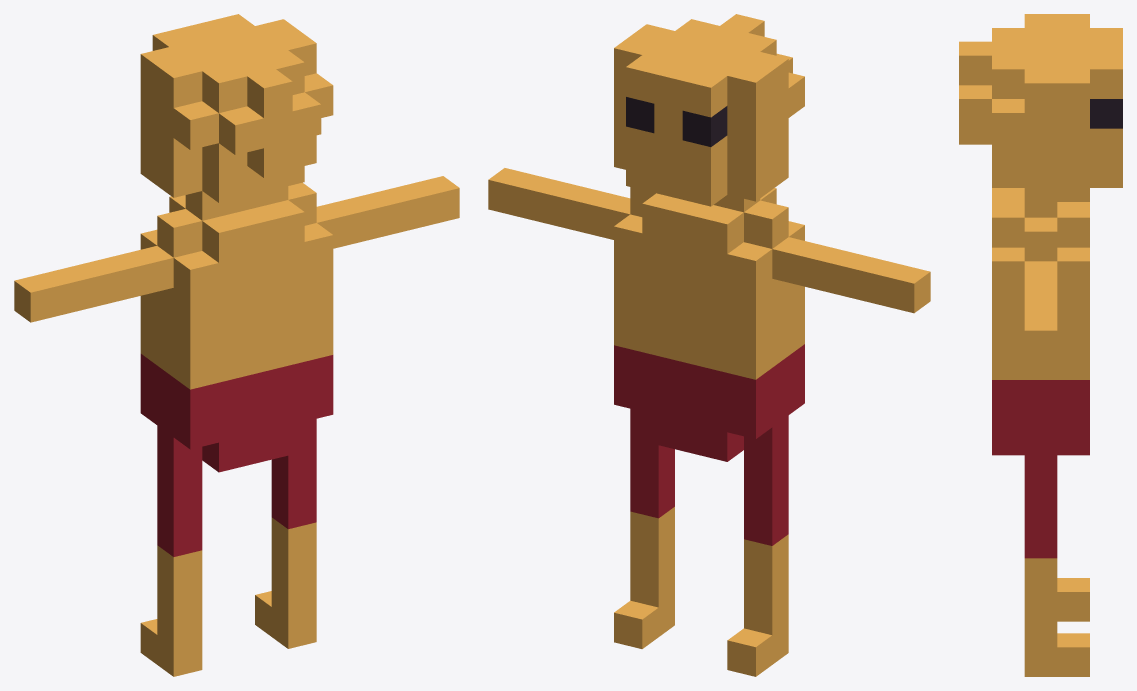
File: human-base.obj
3 renders of one model, left to right at view 1: azimuth 30°, elevation 25°; view 2: azimuth 150°, elevation 25°; view 3: azimuth 270°, elevation 25°, orthographic.
Size of the model in its own units: 1.5 by 2 by 0.5.
1 material, 1 textured.
